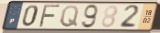0: (21, 4, 40, 28)
2: (119, 4, 141, 30)
8: (100, 4, 120, 29)
9: (81, 4, 100, 30)
F: (37, 4, 63, 28)
Q: (59, 4, 80, 28)
